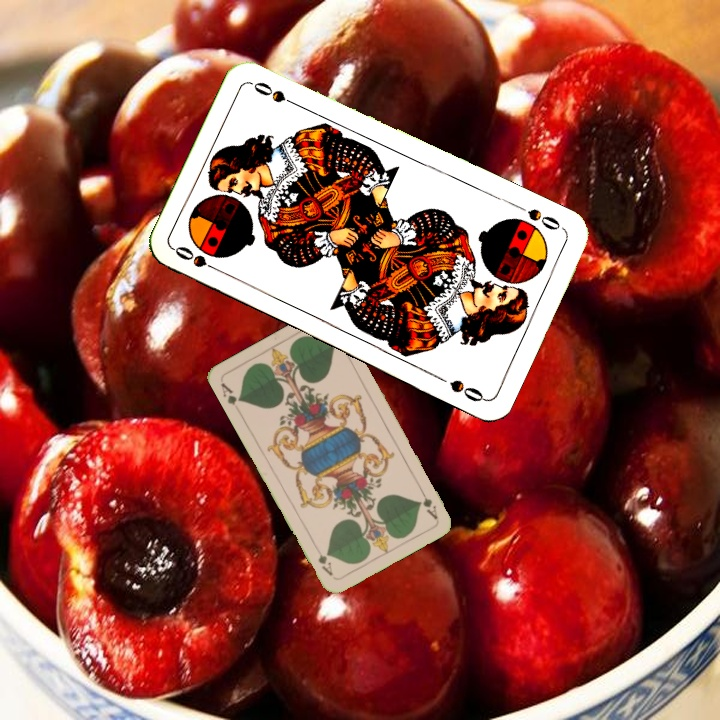GA: (415, 484, 440, 522), (217, 379, 245, 408)
SO: (170, 242, 226, 276), (523, 204, 567, 233)
